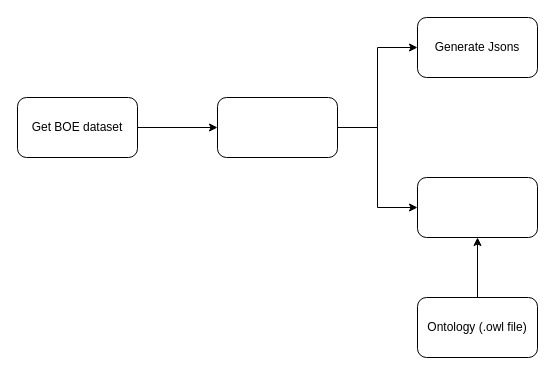
The diagram is 555 pixels wide and 375 high, and some of its shapes have lost their labels. Each missing label, with the centre of its shape:
Download Bulletin: (x=277, y=127)
Generate TTL: (x=477, y=207)
